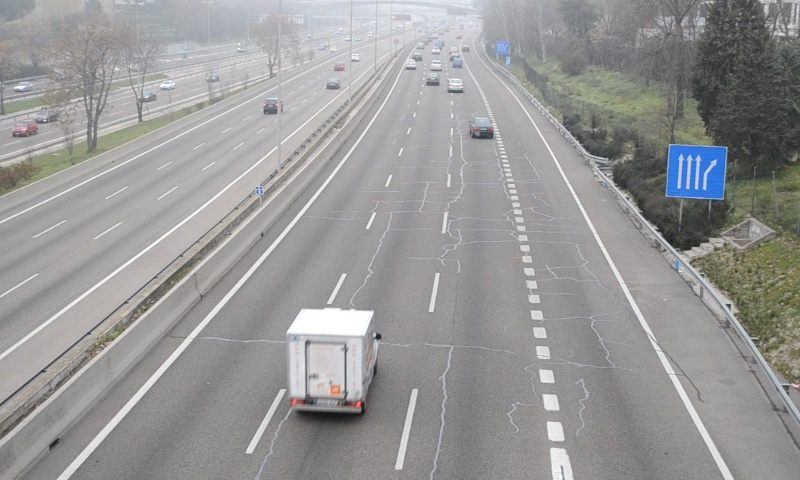car: (468, 115, 495, 139)
small-truck: (287, 308, 378, 414)
